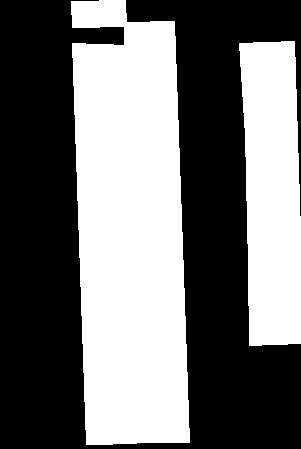parkingspot: (124, 21, 189, 442), (72, 43, 136, 444), (239, 41, 301, 345), (71, 0, 126, 27)
